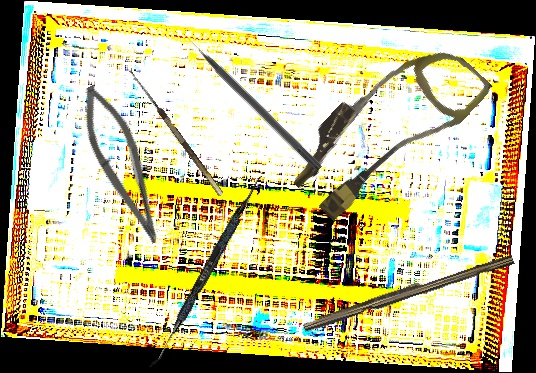Cannula: (278, 18, 495, 239)
Hook Surgical: (122, 68, 224, 202)
Micro Scissor: (66, 78, 181, 250)
Pusher: (180, 28, 324, 173)
Scalpel Handle: (301, 248, 515, 336)
Spatula Surgical: (149, 171, 264, 373)
